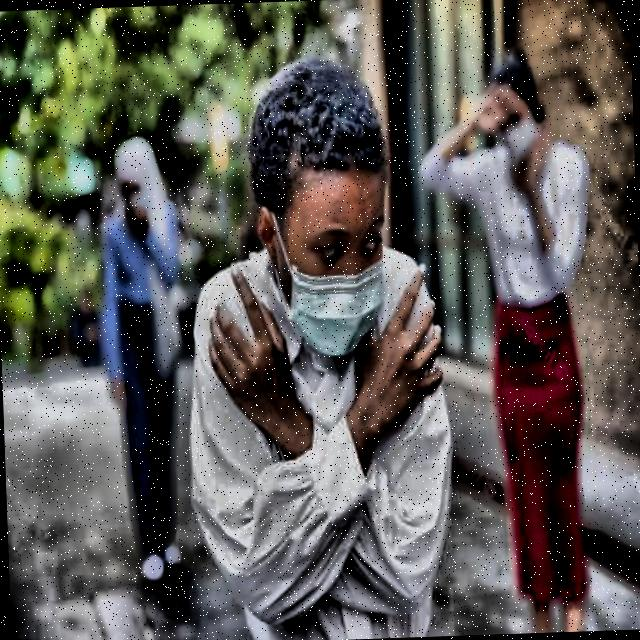fear: (237, 44, 406, 364)
